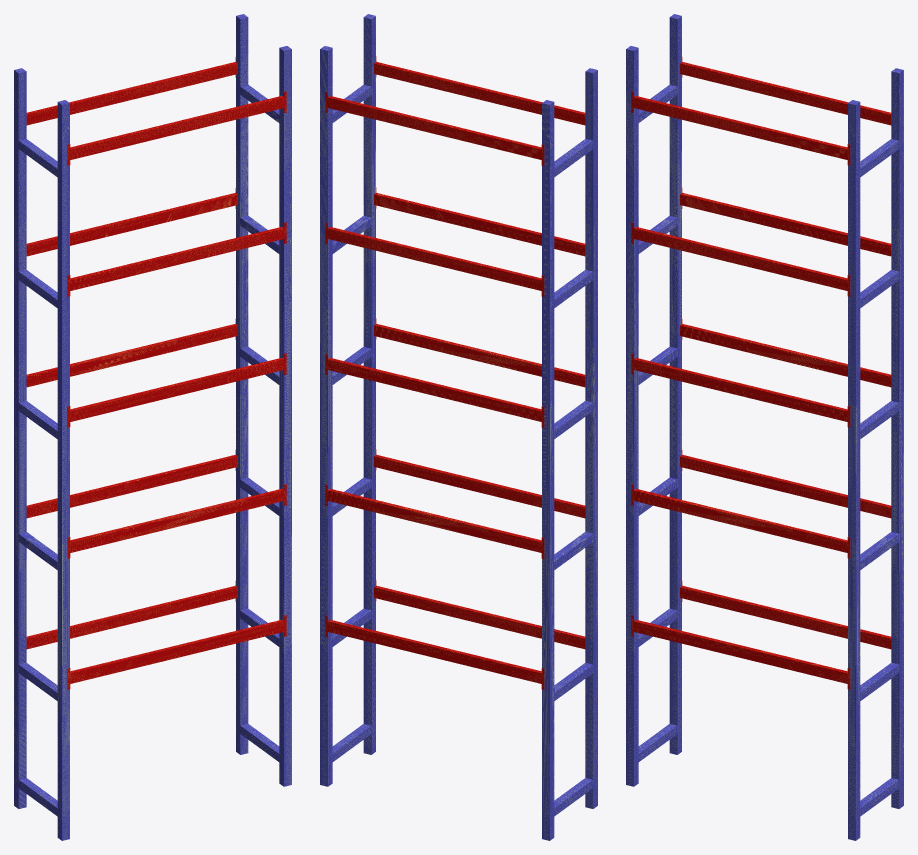
File: pallet_rack_type_2700.fbx
3 renders of one model, left to right at view 1: azimuth 30°, elevation 25°; view 2: azimuth 150°, elevation 25°; view 3: azimuth 330°, elevation 25°, orthographic.
Parts seen in each view (by area): view 1: Pied1, Pied3, Pied2, Pied4, lisse_3_1, lisse_3_5, lisse_3_8, lisse_3_6, lisse_3_10, lisse_3_7, lisse_3_2, lisse_3_3 (+9 smaller); view 2: Pied2, Pied4, Pied1, Pied3, lisse_3_2, lisse_3_3, lisse_3_4, lisse_3_7, lisse_3_9, lisse_3_1, lisse_3_5, lisse_3_6 (+9 smaller); view 3: Pied3, Pied1, Pied4, Pied2, lisse_3_1, lisse_3_5, lisse_3_8, lisse_3_6, lisse_3_10, lisse_3_7, lisse_3_2, lisse_3_3 (+9 smaller).
Boxes of the visible parts, x1,y1,x2,y2 form: Pied1: (57, 100, 69, 840); Pied3: (279, 46, 291, 786); Pied2: (14, 68, 26, 808); Pied4: (236, 14, 248, 754); lisse_3_1: (70, 488, 284, 552); lisse_3_5: (70, 96, 284, 159); lisse_3_8: (70, 619, 284, 683); lisse_3_6: (70, 358, 284, 421); lisse_3_10: (70, 227, 284, 290); lisse_3_7: (26, 62, 237, 125); lisse_3_2: (26, 585, 237, 649); lisse_3_3: (26, 455, 237, 518); Pied2: (542, 100, 554, 840); Pied4: (320, 46, 332, 786); Pied1: (585, 68, 597, 808); Pied3: (363, 14, 375, 754); lisse_3_2: (327, 619, 541, 683); lisse_3_3: (327, 488, 541, 552); lisse_3_4: (327, 357, 541, 421); lisse_3_7: (327, 96, 541, 159); lisse_3_9: (327, 227, 541, 290); lisse_3_1: (374, 454, 585, 518); lisse_3_5: (374, 62, 585, 125); lisse_3_6: (374, 324, 585, 387); Pied3: (848, 100, 860, 840); Pied1: (626, 46, 638, 786); Pied4: (891, 68, 903, 808); Pied2: (669, 14, 681, 754); lisse_3_1: (633, 488, 847, 552); lisse_3_5: (633, 96, 847, 159); lisse_3_8: (633, 619, 847, 683); lisse_3_6: (633, 358, 847, 421); lisse_3_10: (633, 227, 847, 290); lisse_3_7: (680, 62, 891, 125); lisse_3_2: (680, 585, 891, 649); lisse_3_3: (680, 455, 891, 518).
Bounding box in the file's own units: 290 × 888 × 106.
